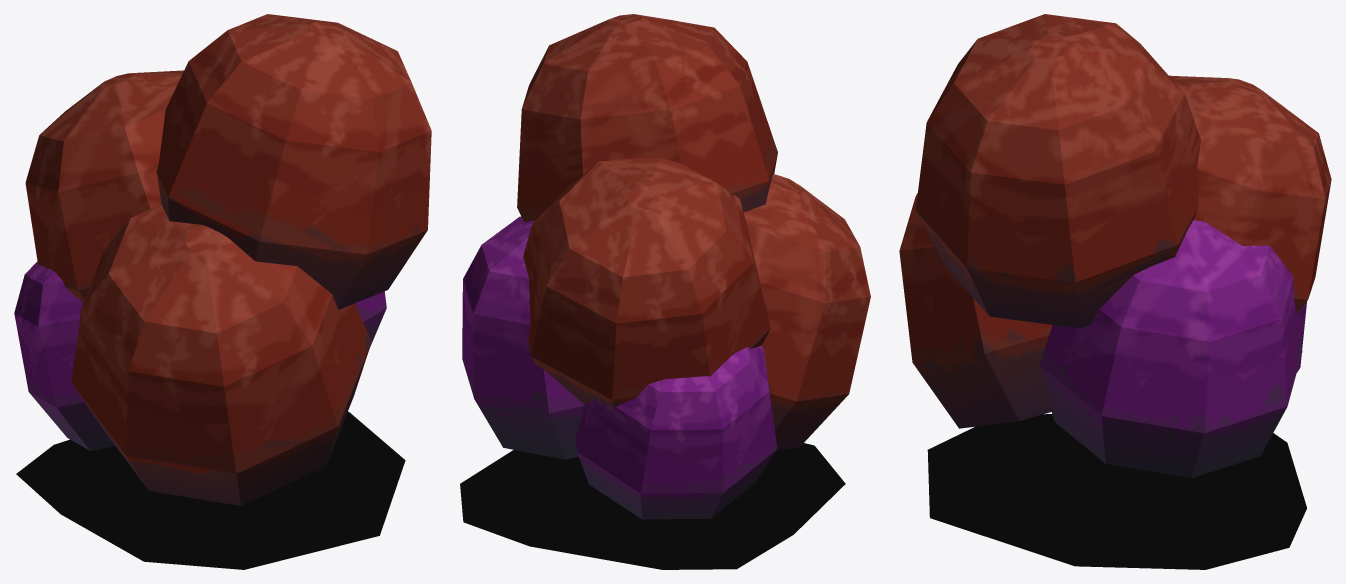
The model's file is Tree_006.fbx.
3 views of the same model, side by side, from view 1: azimuth 30°, elevation 25°; view 2: azimuth 150°, elevation 25°; view 3: azimuth 270°, elevation 25° (orthographic). The views are drawn at different scales.
Visible parts, largest first — view 1: Tree_003_01, Tree_003_04, Shadow, Tree_003_02.001, Tree_003_02, Tree_003_03; view 2: Tree_003_02.001, Tree_003_04, Shadow, Tree_003_02, Tree_003_01, Tree_003_03; view 3: Tree_003_04, Tree_003_03, Shadow, Tree_003_02.001, Tree_003_01.
Part boxes in pixels (x1=…): Tree_003_01: x1=71, y1=204, x2=371, y2=505; Tree_003_04: x1=156, y1=14, x2=431, y2=309; Shadow: x1=16, y1=411, x2=405, y2=569; Tree_003_02.001: x1=25, y1=70, x2=183, y2=302; Tree_003_02: x1=14, y1=261, x2=114, y2=450; Tree_003_03: x1=355, y1=291, x2=386, y2=346; Tree_003_02.001: x1=523, y1=158, x2=770, y2=408; Tree_003_04: x1=517, y1=14, x2=777, y2=222; Shadow: x1=460, y1=443, x2=845, y2=569; Tree_003_02: x1=575, y1=345, x2=776, y2=519; Tree_003_01: x1=744, y1=174, x2=870, y2=450; Tree_003_03: x1=462, y1=216, x2=585, y2=459; Tree_003_04: x1=915, y1=14, x2=1200, y2=328; Tree_003_03: x1=1039, y1=220, x2=1302, y2=478; Shadow: x1=927, y1=414, x2=1306, y2=569; Tree_003_02.001: x1=1169, y1=75, x2=1331, y2=313; Tree_003_01: x1=899, y1=193, x2=1055, y2=428.
Bounding box in the file's own units: 204 × 277 × 228.
